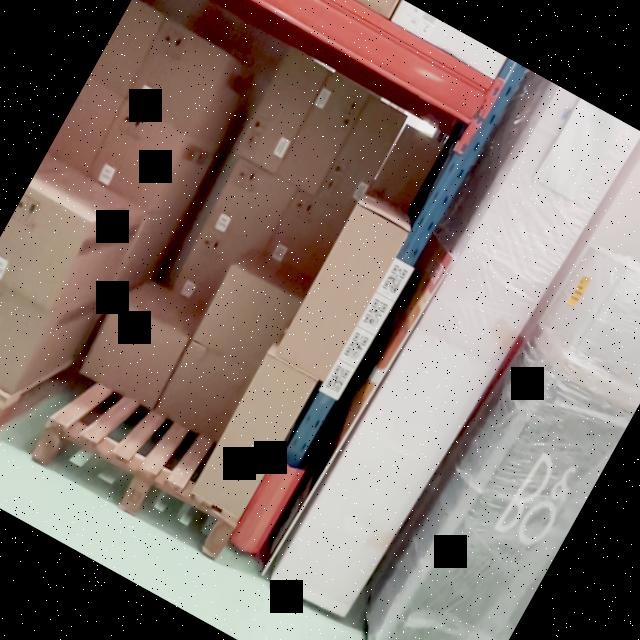box: (275, 201, 412, 381), (188, 352, 318, 526), (119, 22, 232, 140), (234, 47, 332, 174), (276, 76, 370, 199), (80, 300, 188, 406), (85, 103, 188, 205), (202, 158, 300, 257)
